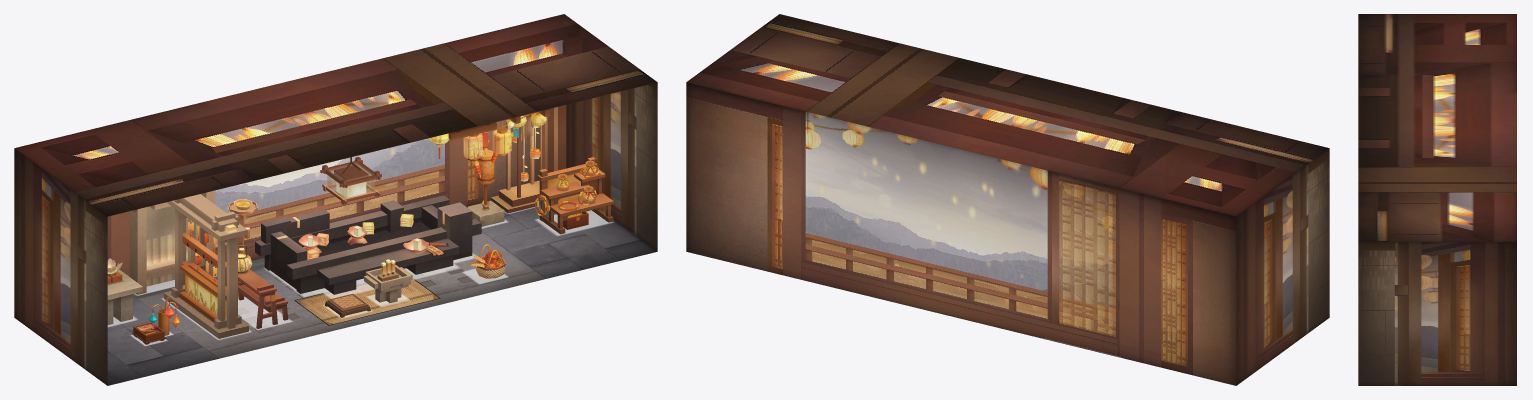
Rendered from TempleFair.glb.
3 views of the same model, side by side, from view 1: azimuth 30°, elevation 25°; view 2: azimuth 150°, elevation 25°; view 3: azimuth 270°, elevation 25° (orthographic). The views are drawn at different scales.
Parts seen in each view (by area): view 1: ROOM_room, ROOM_floor, furni_TempleFair_pool_01, furni_TempleFair_bookshelf_01, furni_TempleFair_cabinet_02.001, furni_TempleFair_table_02.001, furni_TempleFair_shelf_01, furni_TempleFair_carpet_01, furni_TempleFair_tapestry_01, furni_TempleFair_chair_01, furni_TempleFair_ceilingLights_01, ROOM_LDoor (+10 smaller); view 2: ROOM_room, ROOM_LDoor; view 3: ROOM_room, ROOM_RDoor.
Part boxes in pixels (x1=…): ROOM_room: x1=14, y1=14, x2=657, y2=385; ROOM_floor: x1=107, y1=206, x2=657, y2=385; furni_TempleFair_pool_01: x1=255, y1=195, x2=481, y2=294; furni_TempleFair_bookshelf_01: x1=164, y1=194, x2=248, y2=338; furni_TempleFair_cabinet_02.001: x1=129, y1=190, x2=215, y2=294; furni_TempleFair_table_02.001: x1=535, y1=157, x2=613, y2=234; furni_TempleFair_shelf_01: x1=491, y1=105, x2=566, y2=213; furni_TempleFair_carpet_01: x1=294, y1=278, x2=440, y2=325; furni_TempleFair_tapestry_01: x1=428, y1=109, x2=549, y2=160; furni_TempleFair_chair_01: x1=225, y1=245, x2=288, y2=328; furni_TempleFair_ceilingLights_01: x1=320, y1=157, x2=381, y2=204; ROOM_LDoor: x1=74, y1=285, x2=93, y2=375; ROOM_room: x1=686, y1=14, x2=1329, y2=385; ROOM_LDoor: x1=1297, y1=251, x2=1315, y2=341; ROOM_room: x1=1358, y1=14, x2=1516, y2=385; ROOM_RDoor: x1=1381, y1=320, x2=1414, y2=385.
Bounding box in the file's own units: 7.48 × 2.2 × 2.22.
Materials: 8 (8 with a texture image).
